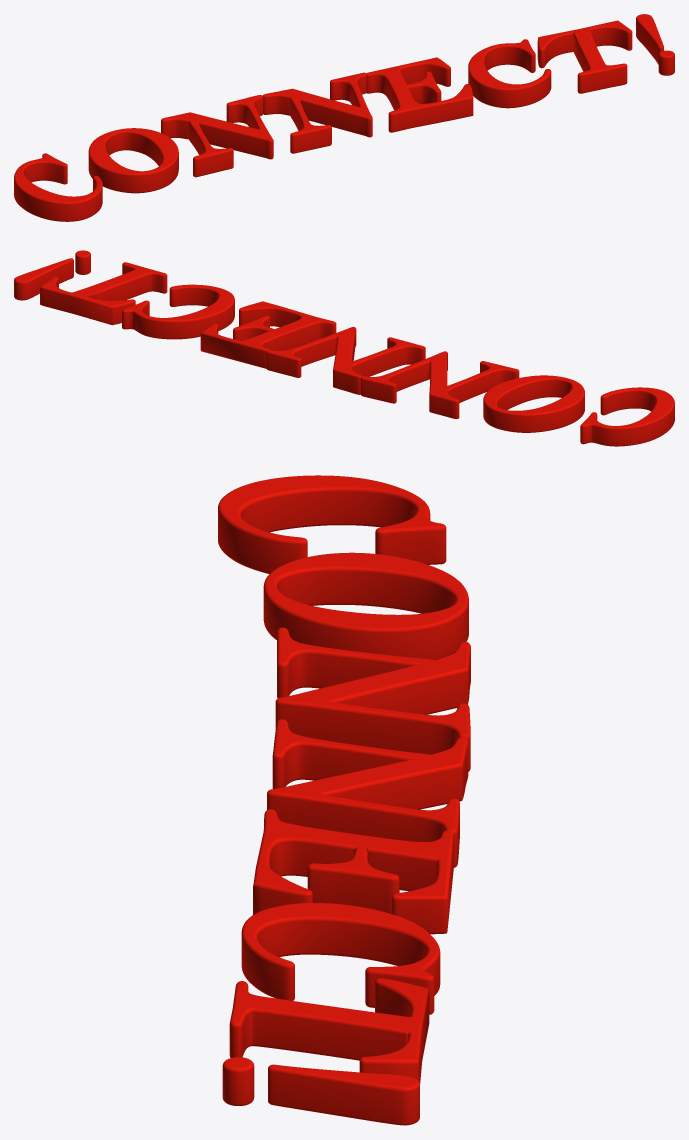
File: ConnectText.glb
The picture shows the model from 3 angles, top to bottom: view 1: azimuth 30°, elevation 25°; view 2: azimuth 150°, elevation 25°; view 3: azimuth 270°, elevation 25°; orthographic projection. The views are drawn at different scales.
Visible parts, largest first — view 1: Text; view 2: Text; view 3: Text.
Boxes of the visible parts, x1=… form: Text: x1=14, y1=14, x2=674, y2=221; Text: x1=14, y1=250, x2=674, y2=446; Text: x1=218, y1=475, x2=470, y2=1125.
Bounding box in the file's own units: 4.16 × 0.12 × 0.7247.
